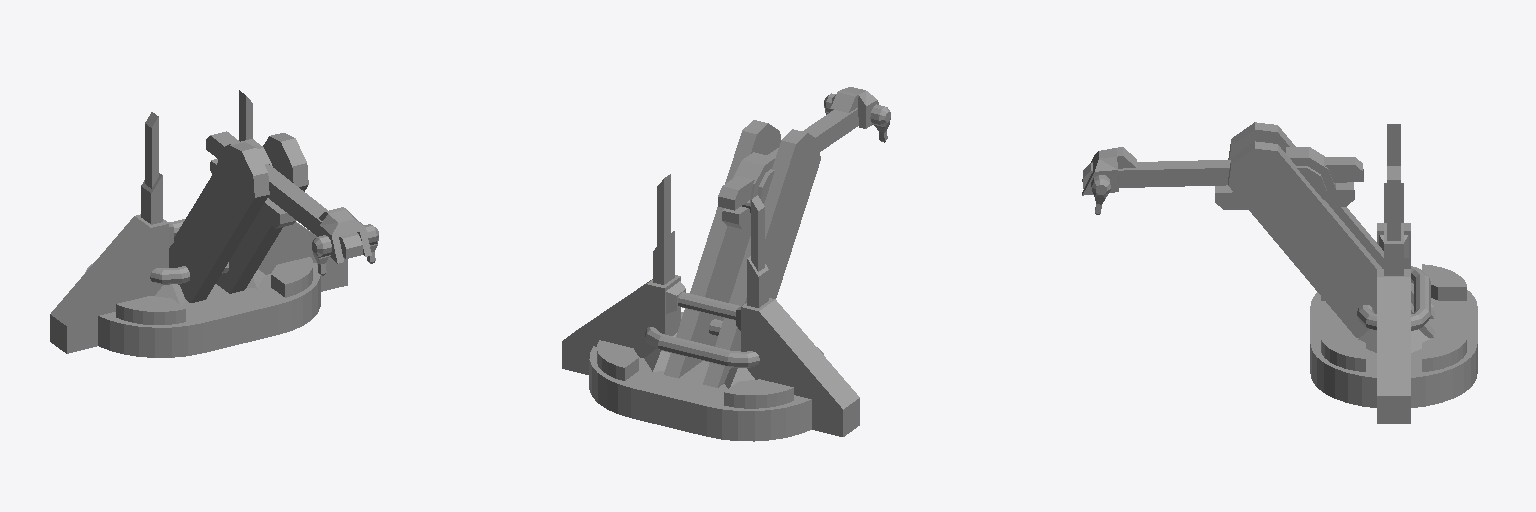
Rendered from veh.obj.
3 renders of one model, left to right at view 1: azimuth 30°, elevation 25°; view 2: azimuth 150°, elevation 25°; view 3: azimuth 270°, elevation 25°, orthographic.
Parts seen in each view (by area): view 1: Core_Cylinder.064, CraneRoot_Cylinder.071, RailTop_Cylinder.068, Train_Cylinder.067, Nanos_Cylinder.066, RailBottom_Cylinder.069; view 2: Core_Cylinder.064, CraneRoot_Cylinder.071, RailTop_Cylinder.068, CraneWheel_Cylinder.070, Train_Cylinder.067, Nanos_Cylinder.066; view 3: Core_Cylinder.064, CraneRoot_Cylinder.071, RailTop_Cylinder.068, CraneWheel_Cylinder.070, Train_Cylinder.067, RailBottom_Cylinder.069.
Part boxes in pixels (left/top/right/bottom): Core_Cylinder.064: left=50, top=90, right=347, bottom=357; CraneRoot_Cylinder.071: left=169, top=133, right=308, bottom=302; RailTop_Cylinder.068: left=206, top=131, right=362, bottom=258; Train_Cylinder.067: left=319, top=207, right=371, bottom=263; Nanos_Cylinder.066: left=312, top=224, right=378, bottom=275; RailBottom_Cylinder.069: left=210, top=159, right=296, bottom=228; Core_Cylinder.064: left=562, top=174, right=859, bottom=441; CraneRoot_Cylinder.071: left=664, top=120, right=820, bottom=387; RailTop_Cylinder.068: left=718, top=108, right=858, bottom=210; CraneWheel_Cylinder.070: left=733, top=152, right=774, bottom=226; Train_Cylinder.067: left=830, top=87, right=878, bottom=128; Nanos_Cylinder.066: left=824, top=93, right=890, bottom=142; Core_Cylinder.064: left=1310, top=124, right=1477, bottom=423; CraneRoot_Cylinder.071: left=1228, top=122, right=1434, bottom=337; RailTop_Cylinder.068: left=1083, top=157, right=1363, bottom=188; CraneWheel_Cylinder.070: left=1283, top=147, right=1335, bottom=205; Train_Cylinder.067: left=1082, top=147, right=1136, bottom=195; RailBottom_Cylinder.069: left=1215, top=182, right=1354, bottom=209.
Size of the model in its own units: 68.1 by 55.77 by 82.87.